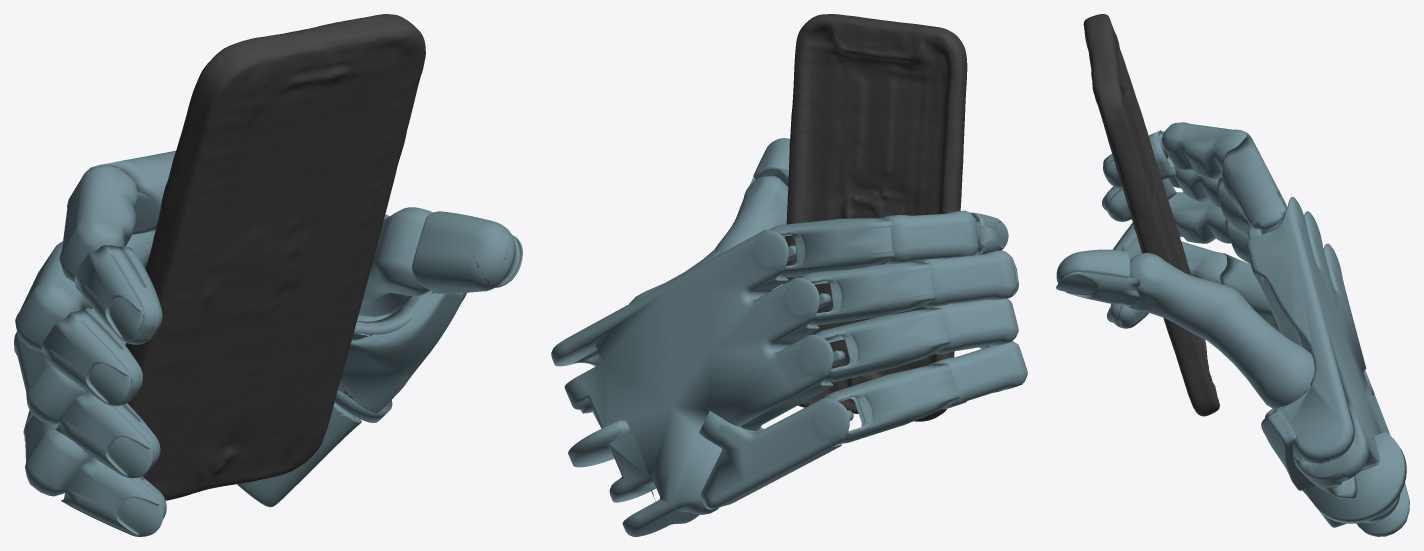
The picture shows the model from 3 angles, left to right: view 1: azimuth 30°, elevation 25°; view 2: azimuth 150°, elevation 25°; view 3: azimuth 270°, elevation 25°; orthographic projection. The views are drawn at different scales.
Parts seen in each view (by area): view 1: world; view 2: world; view 3: world.
Boxes of the visible parts, <box> form: world: <box>14,14,522,536</box>; world: <box>551,14,1027,536</box>; world: <box>1056,14,1409,536</box>.
Bounding box in the file's own units: 0.1687 × 0.1846 × 0.1336.
1 material, 1 textured.
